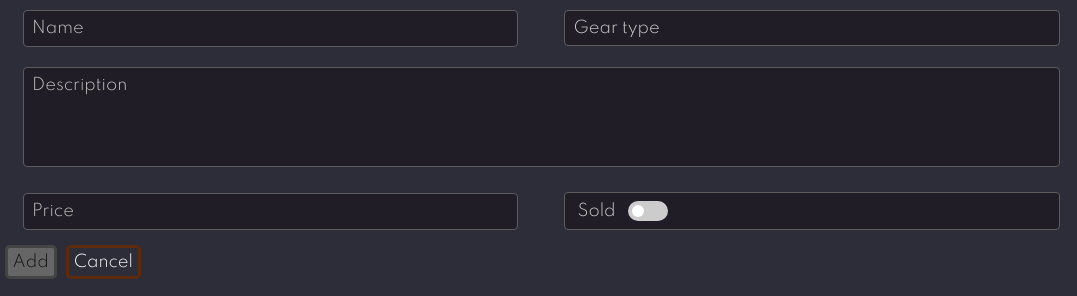
InstrumentForm component › shows sold price input when sold switch is toggled on
The width and height of the screenshot is (1077, 296).
Click the checkbox named "sold" at (648, 211), box [628,201,668,221]
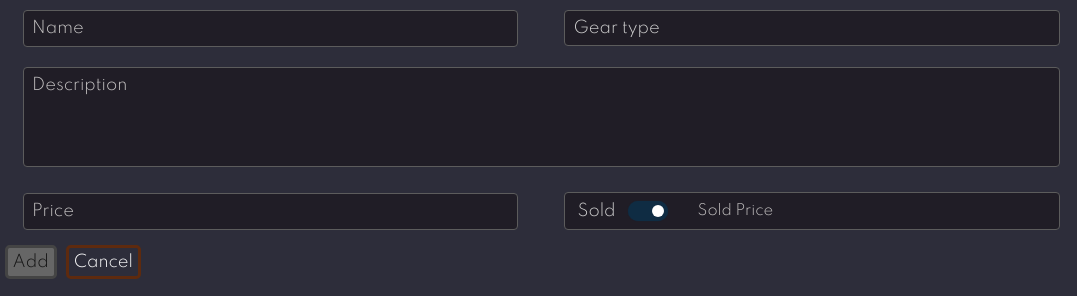
Now the number field with placeholder "Sold Price" is shown, box [696,202,925,220]
